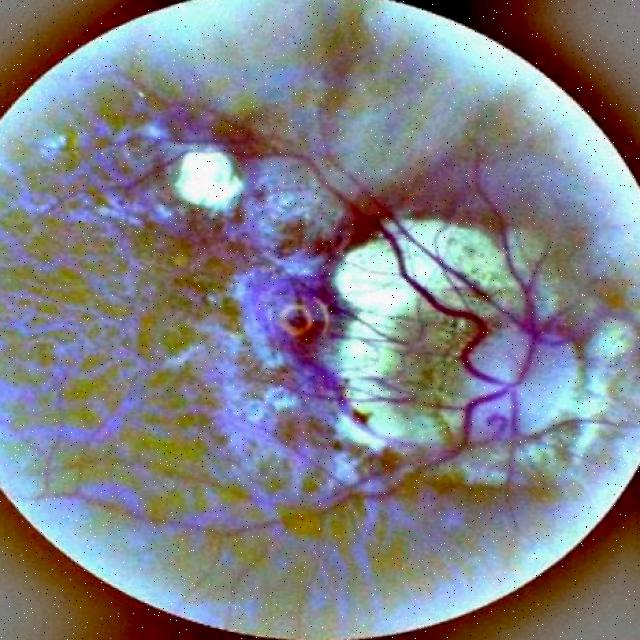Macula: (263, 278, 339, 363)
Nerves: (262, 151, 497, 385), (216, 394, 497, 536), (371, 152, 542, 376)
Optic Disk: (345, 226, 628, 437)
